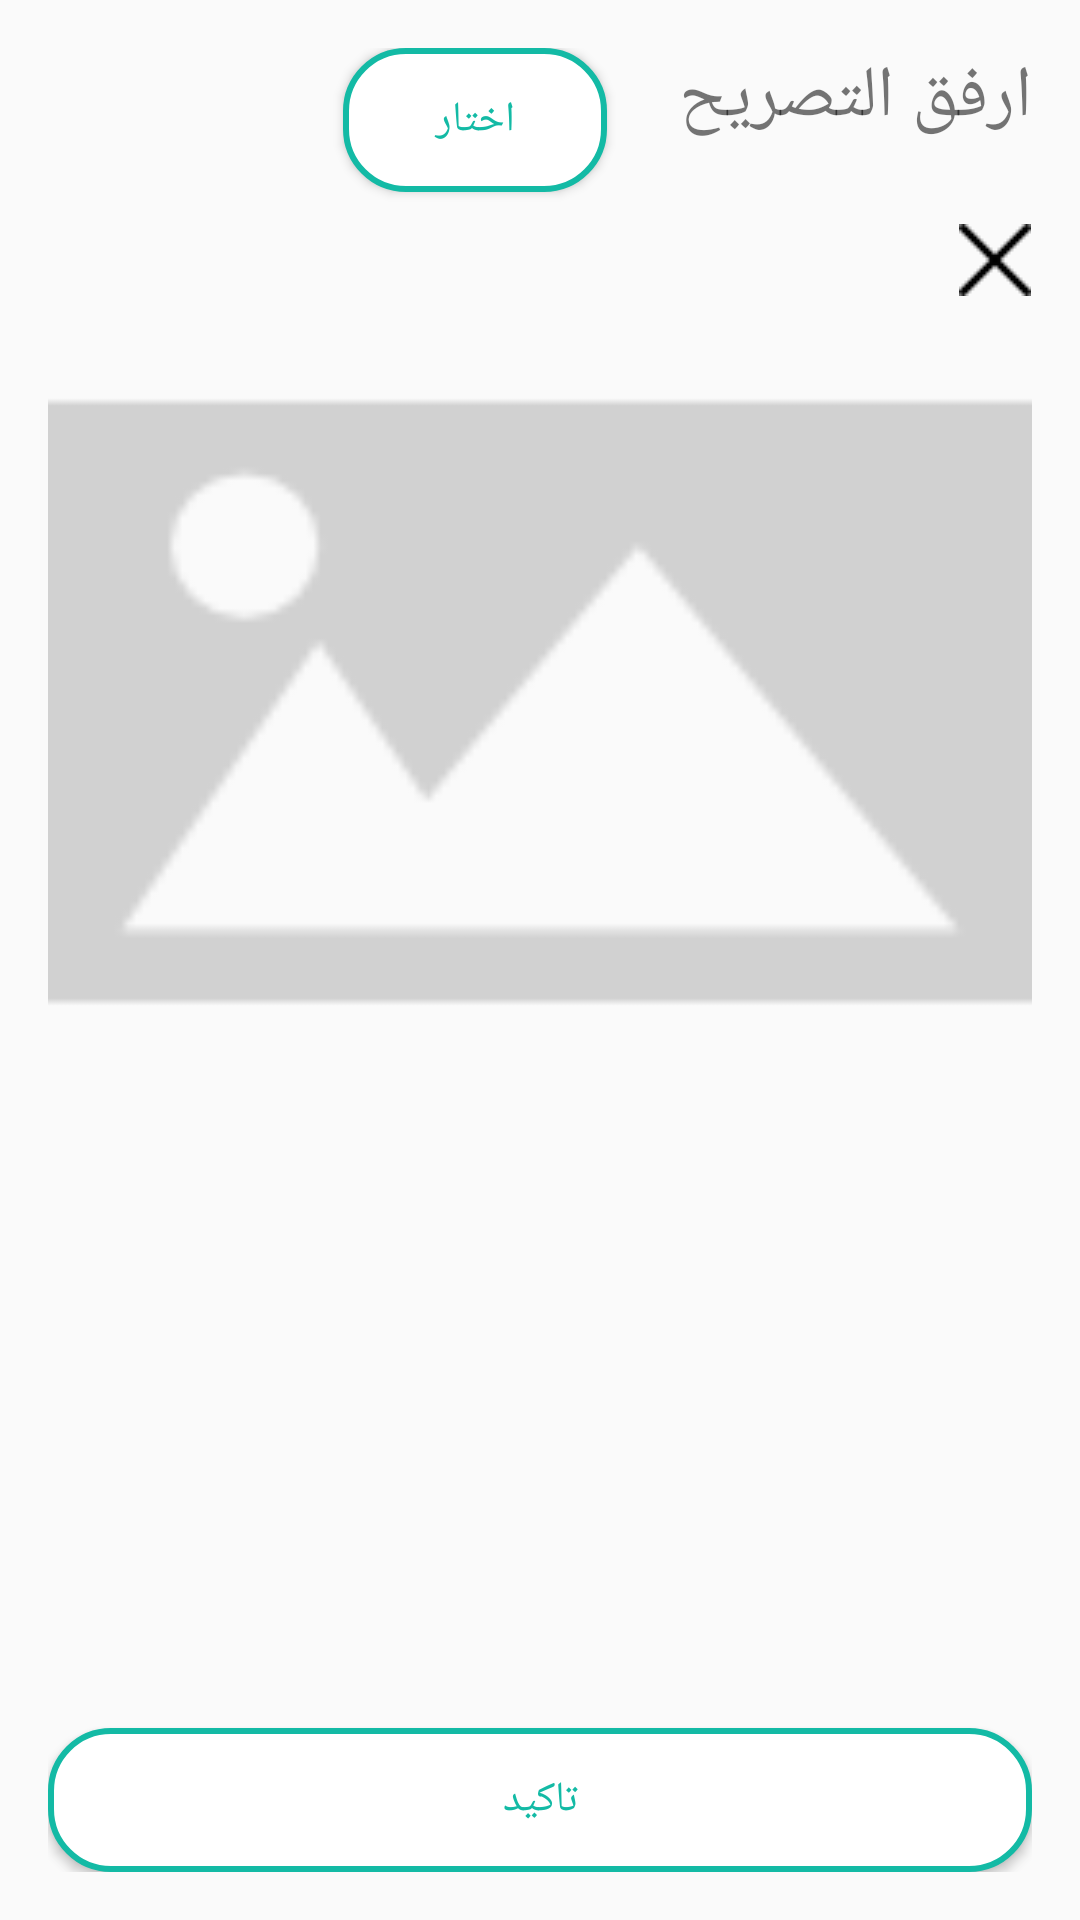

Named icons in this screenshot (1080x1920) and their centers, (x=x, y=y):
cancel: (x=995, y=260)
